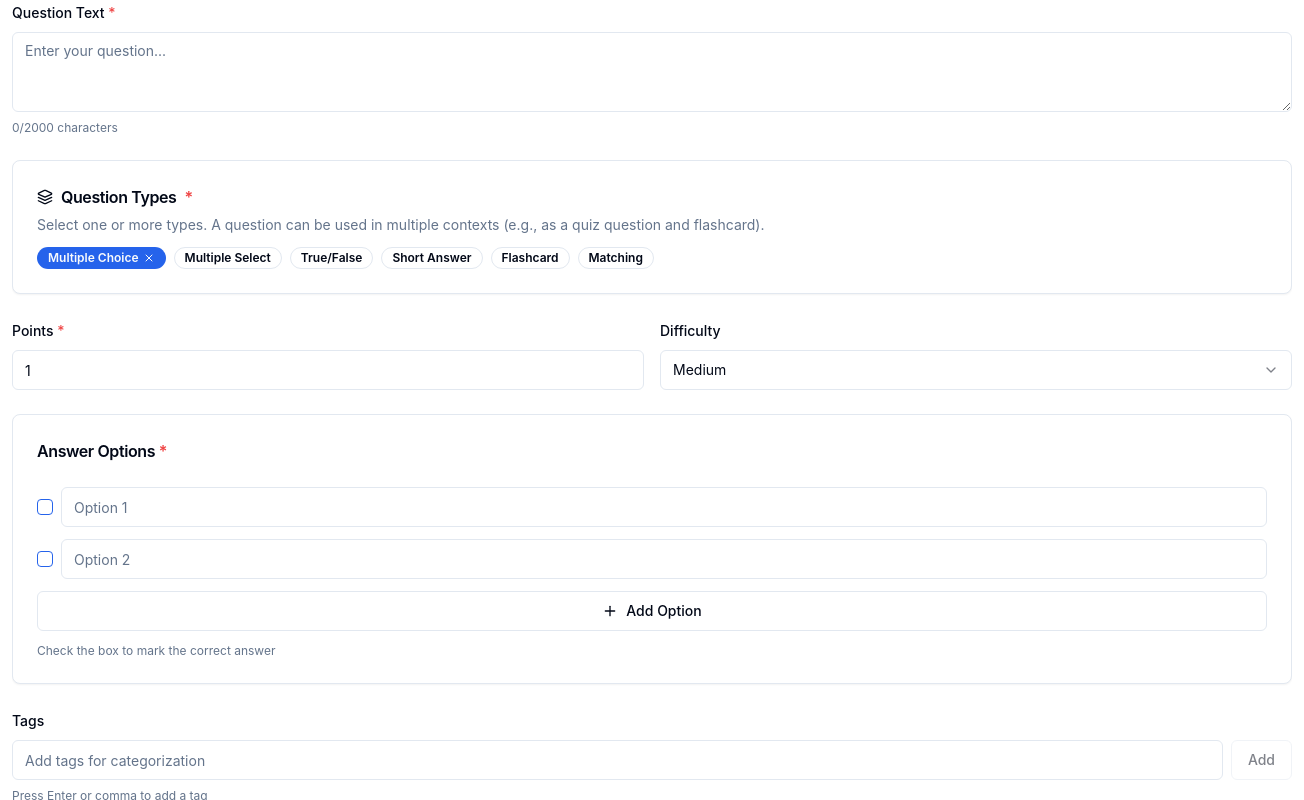
Test case: QuestionForm › Tag Management › should allow adding tags
Type "javascript" into the field labelled "Tags" at (617, 760), box [12,740,1223,780]
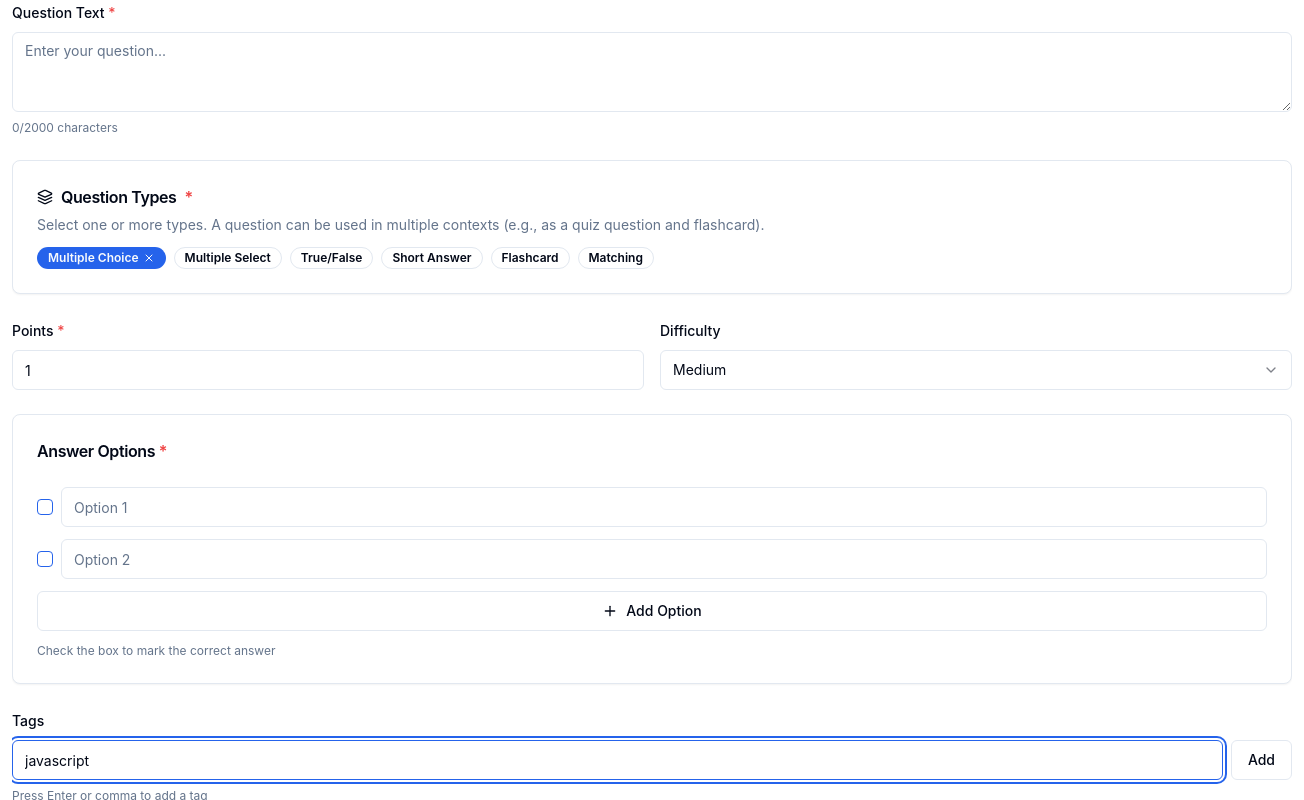
Click the button "Add" at (1261, 760), box [1231,740,1292,780]
(page scrolled)
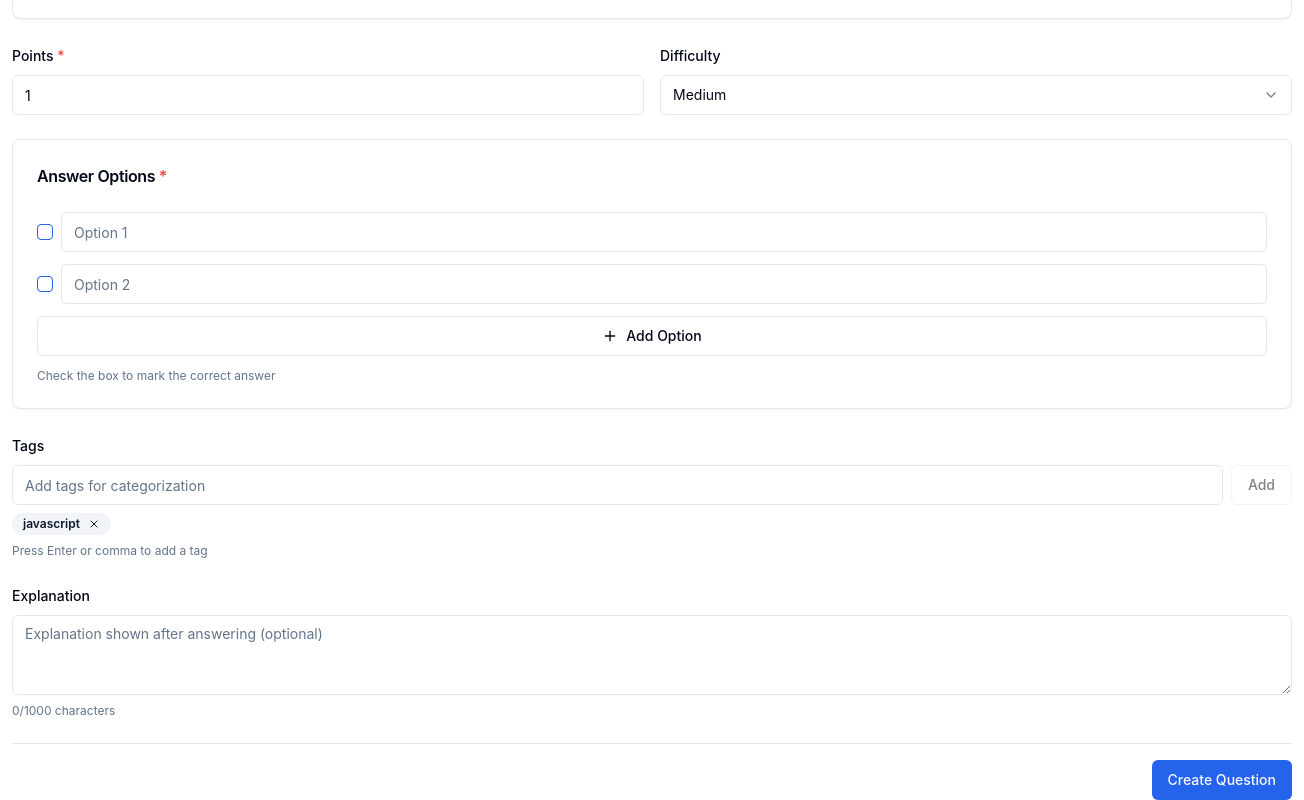
Check: the text "javascript" is shown, box [23,516,80,532]
